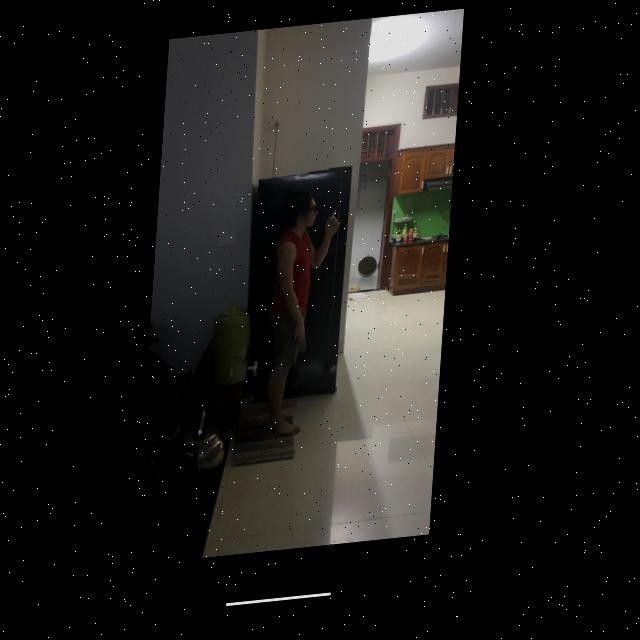cigarette: (335, 217, 339, 226)
